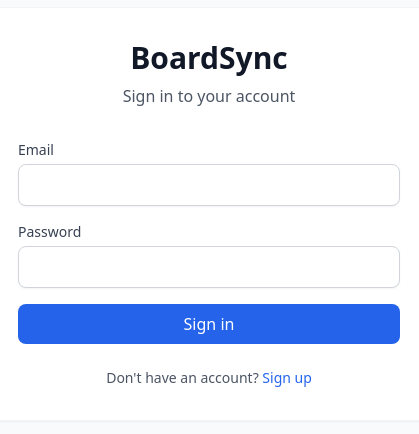
Test: LoginPage › shows the server error
Type "user@example.com" into the field labelled "Email".
click(209, 185); type("user@example.com")  # box [18,164,400,206]
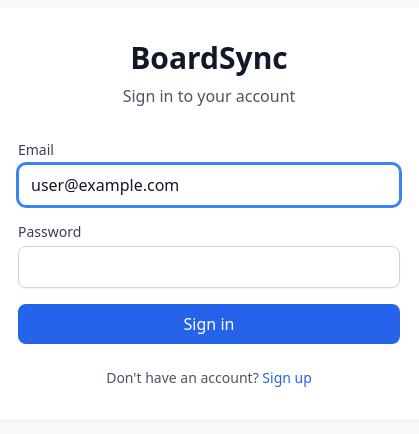
Type "wrong-pass" into the password field labelled "Password".
click(209, 267); type("wrong-pass")  # box [18,246,400,288]
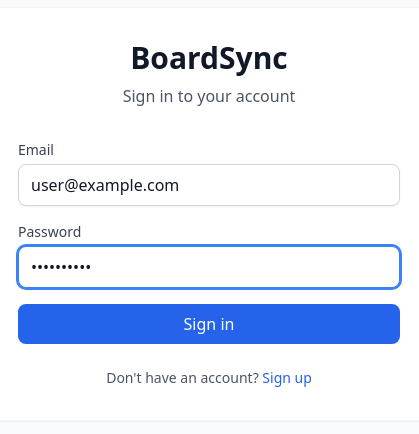
Click the button "Sign in".
click(209, 324)  # box [18,304,400,344]
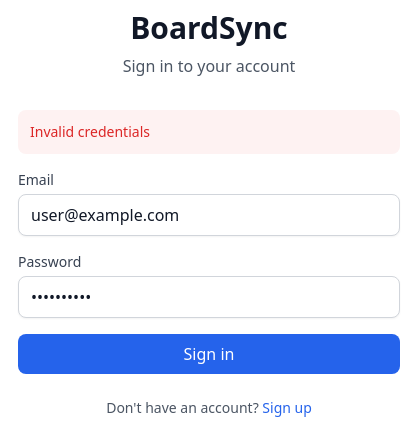
Expected: the message reads "Invalid credentials", [30,122,150,141]
